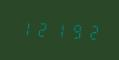nine: (66, 20, 81, 41)
one: (18, 17, 33, 38), (50, 19, 65, 40)
two: (34, 18, 49, 39), (82, 21, 97, 41)
